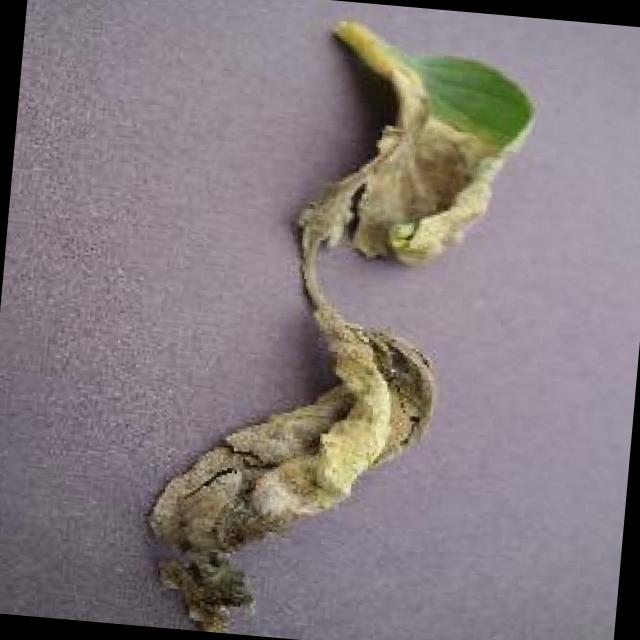Tomato_Late_Blight: (138, 90, 497, 640)
